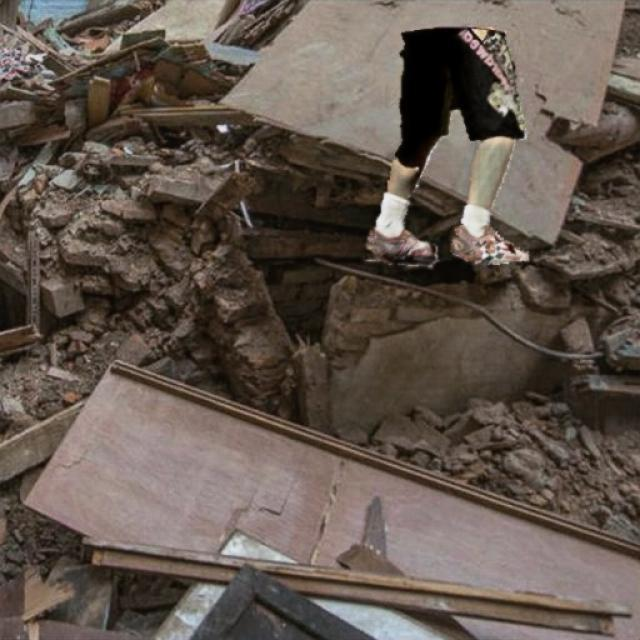Person in Rubble: (363, 28, 528, 266)
